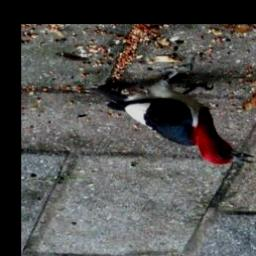Woodpecker: (87, 59, 256, 172)
